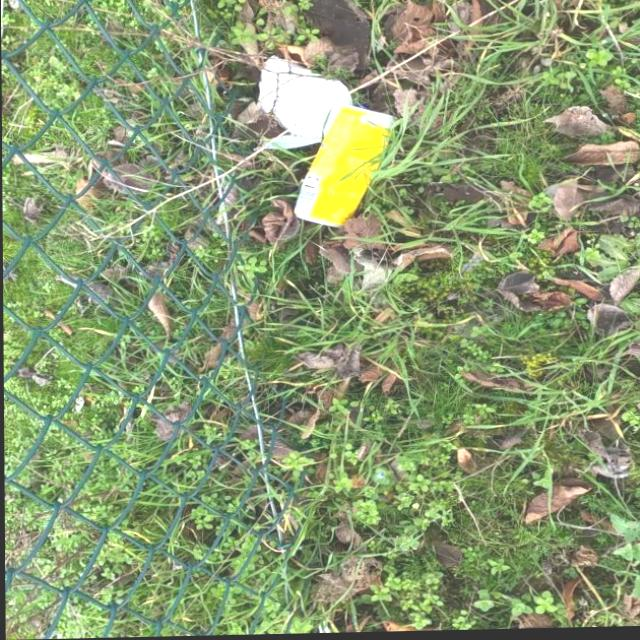Can-Metal: (291, 105, 398, 231)
Cup: (250, 54, 352, 152)
